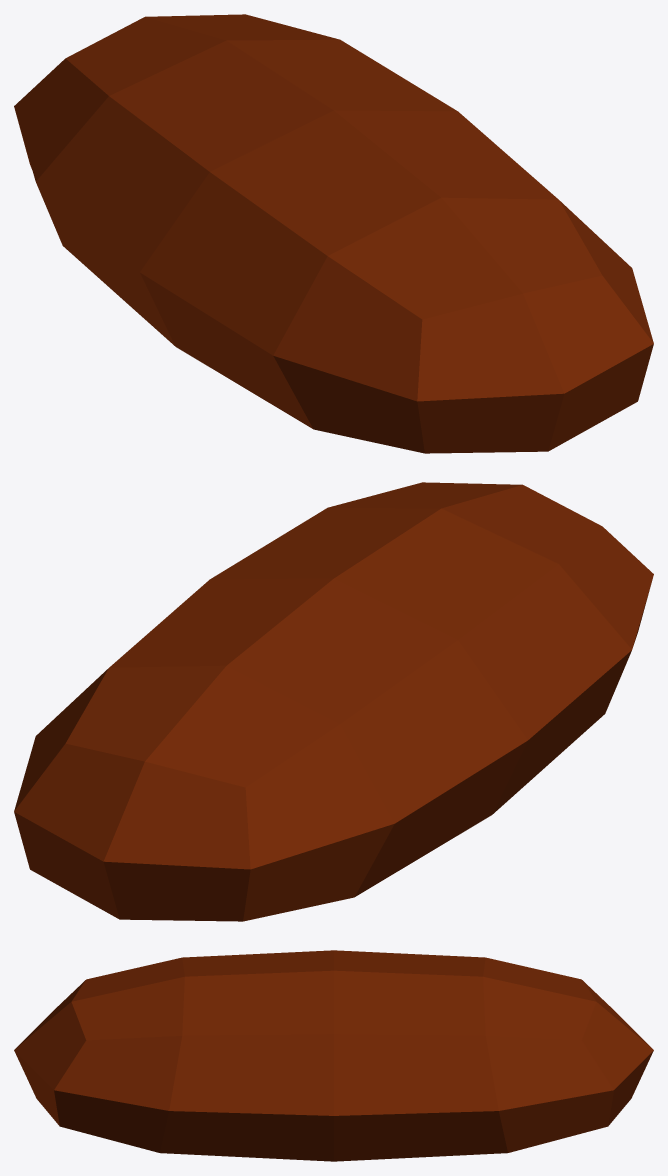
The model's file is Pile Of Dirt.fbx.
The picture shows the model from 3 angles, top to bottom: view 1: azimuth 30°, elevation 25°; view 2: azimuth 150°, elevation 25°; view 3: azimuth 270°, elevation 25°; orthographic projection. The views are drawn at different scales.
Parts seen in each view (by area): view 1: Cube; view 2: Cube; view 3: Cube.
Boxes of the visible parts, <box> form: Cube: <box>14,14,653,453</box>; Cube: <box>14,482,653,921</box>; Cube: <box>14,950,653,1161</box>.
Bounding box in the file's own units: 122 × 68.93 × 251.
